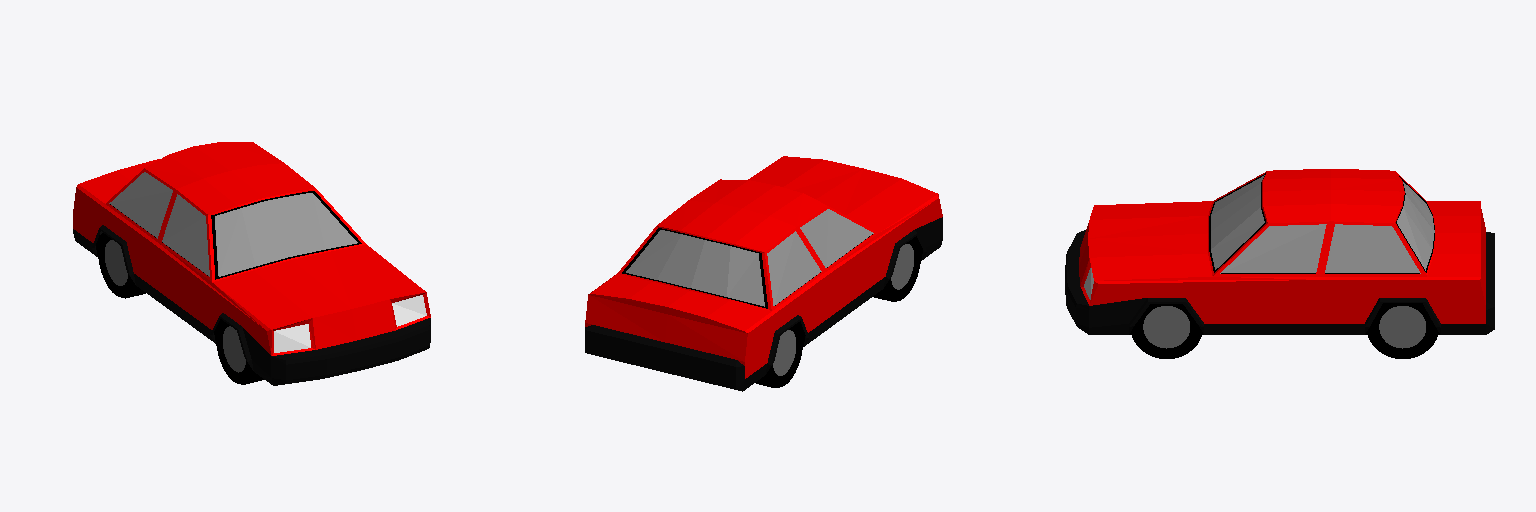
File: car.obj
The picture shows the model from 3 angles: view 1: azimuth 30°, elevation 25°; view 2: azimuth 150°, elevation 25°; view 3: azimuth 270°, elevation 25°; orthographic projection.
Parts seen in each view (by area): view 1: Car_Cube; view 2: Car_Cube; view 3: Car_Cube.
Part boxes in pixels (left/top/right/bottom): Car_Cube: left=73, top=142, right=430, bottom=385; Car_Cube: left=585, top=156, right=942, bottom=391; Car_Cube: left=1065, top=169, right=1494, bottom=358.
Bounding box in the file's own units: 2.1 × 1.59 × 4.67.